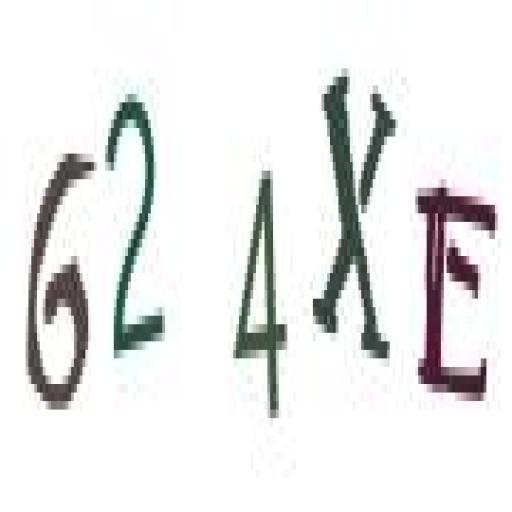2: (102, 87, 172, 359)
4: (230, 169, 292, 424)
6: (23, 120, 103, 442)
E: (412, 171, 498, 415)
X: (313, 60, 397, 370)
